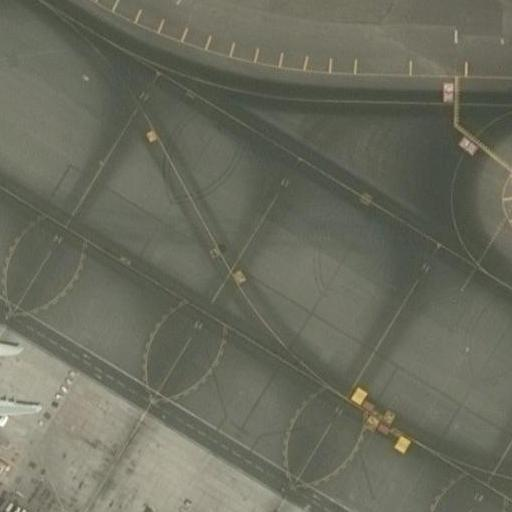Aircraft: (0, 316, 34, 456)
